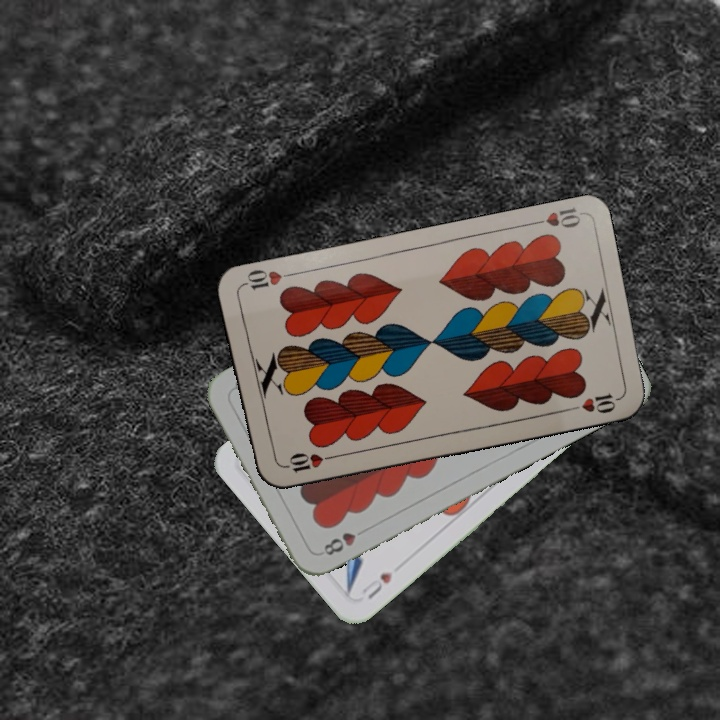H10: (525, 204, 583, 231), (278, 449, 337, 475)
H8: (320, 528, 359, 558)
HU: (358, 567, 395, 603)
